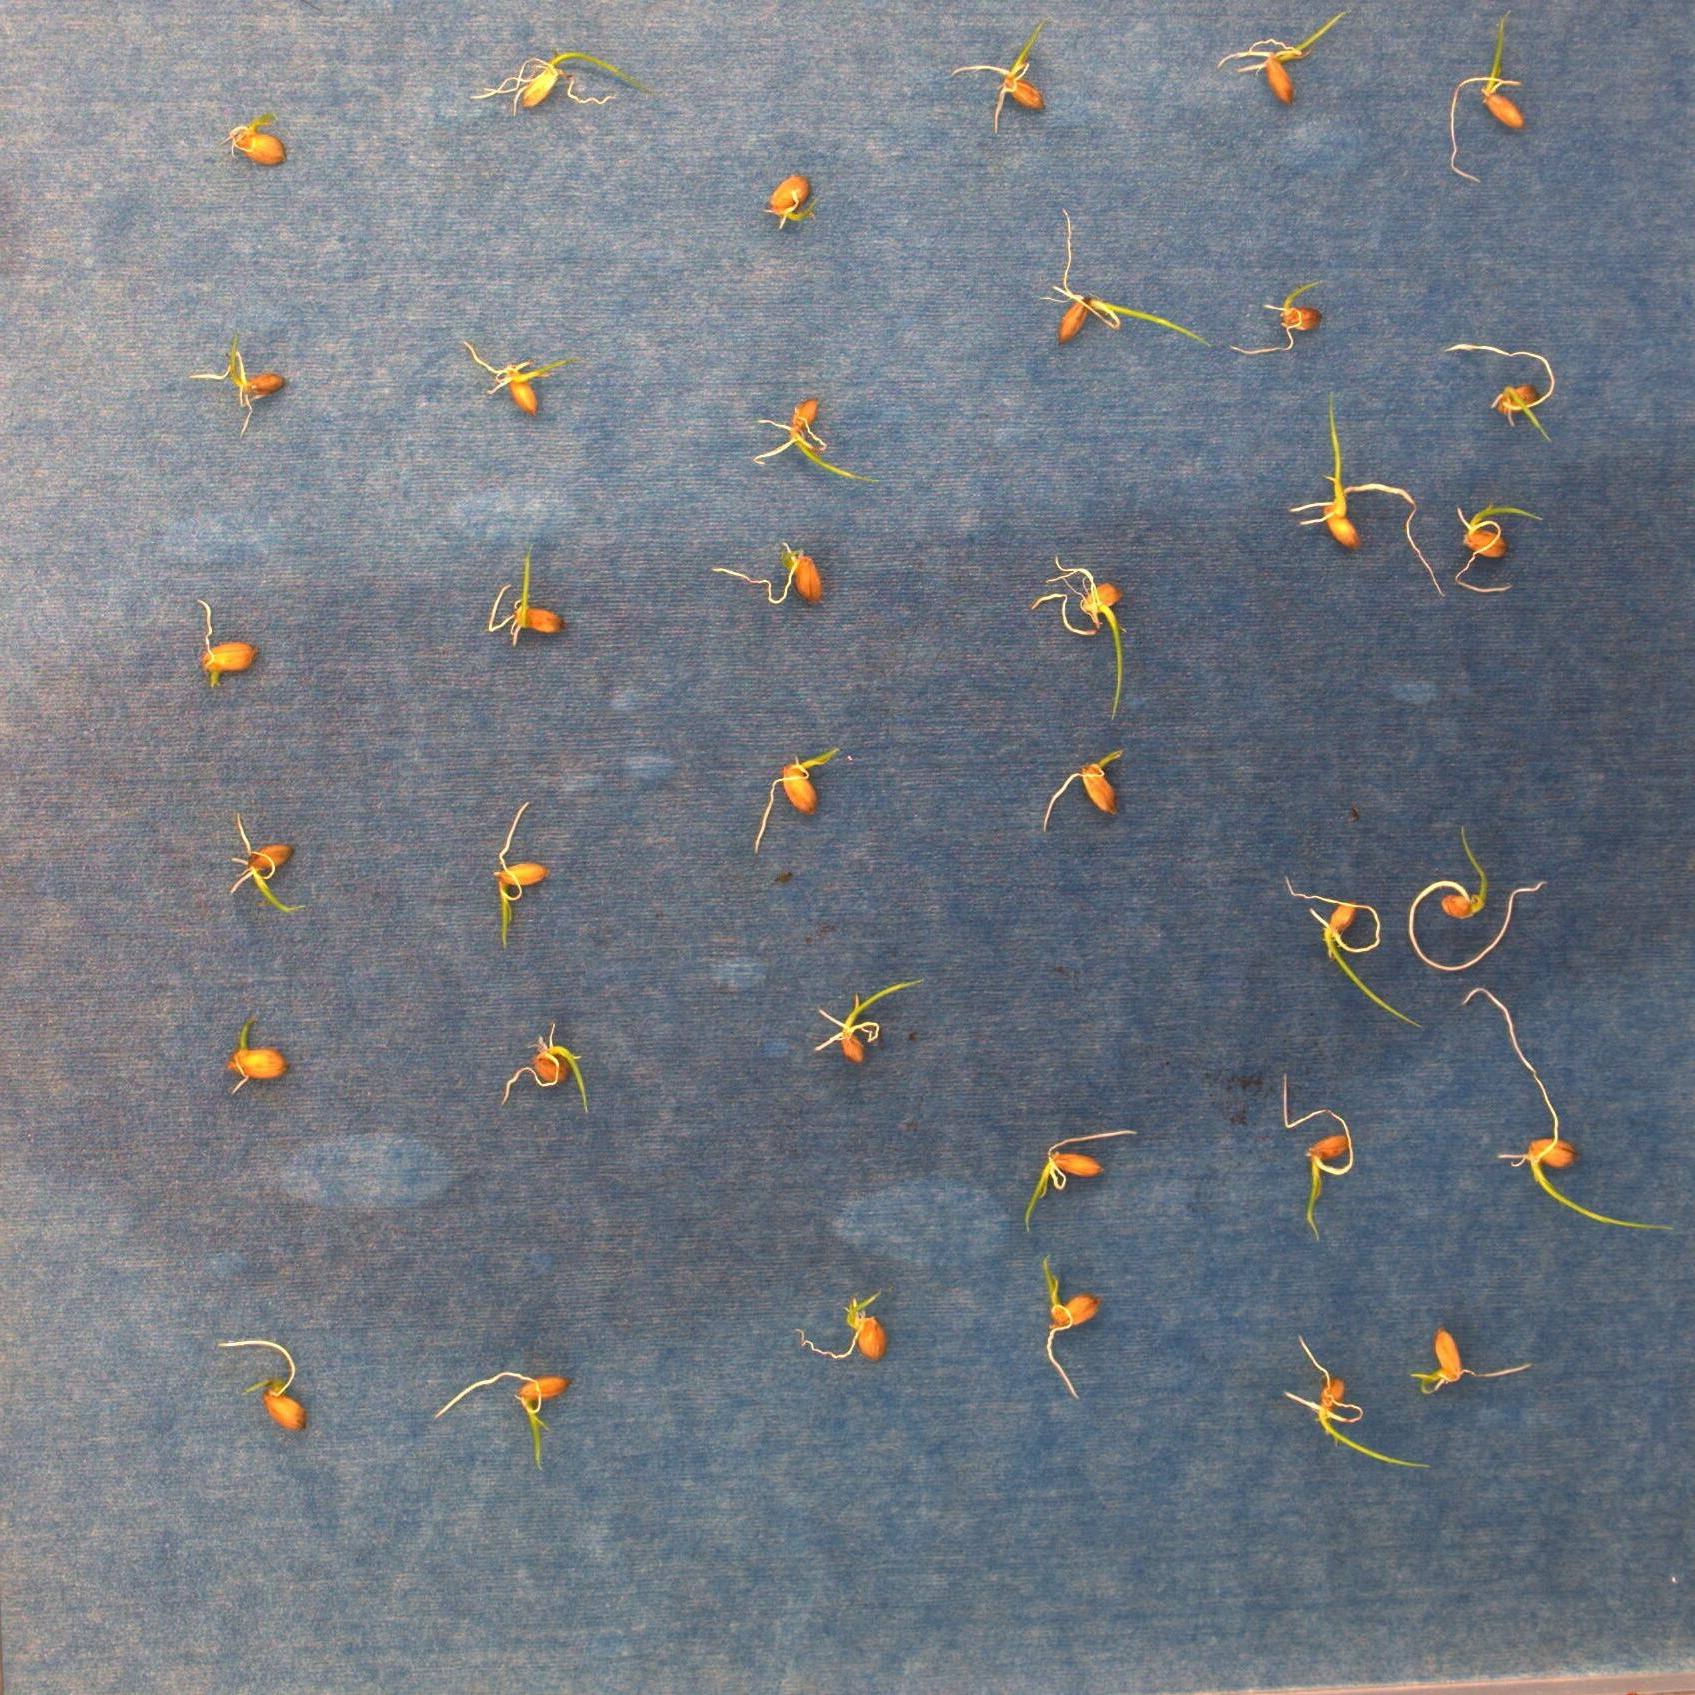not sprout: (200, 599, 256, 688), (216, 1017, 282, 1090)
sprout: (1458, 987, 1669, 1228), (1279, 391, 1440, 602), (1040, 205, 1212, 355), (1284, 1329, 1437, 1478), (1281, 880, 1425, 1031), (1411, 826, 1544, 965), (1029, 553, 1124, 722), (428, 1371, 565, 1473), (1226, 8, 1367, 106), (1447, 9, 1523, 191), (1023, 1127, 1147, 1236), (1281, 1076, 1357, 1245), (1440, 338, 1555, 449), (754, 396, 885, 490), (948, 16, 1051, 129), (470, 51, 640, 116), (751, 744, 843, 855), (813, 976, 924, 1062), (188, 348, 286, 439), (217, 1332, 309, 1428), (1031, 1256, 1094, 1392), (1450, 503, 1548, 591), (497, 1023, 588, 1116), (497, 799, 553, 948), (456, 340, 559, 421), (1232, 276, 1336, 355), (219, 809, 296, 913), (1409, 1326, 1529, 1392), (705, 537, 816, 607), (487, 553, 573, 640), (792, 1288, 889, 1361), (1038, 747, 1125, 821), (756, 171, 826, 234), (233, 107, 289, 169)
